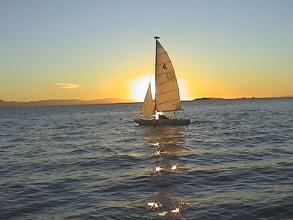fanchuan: (136, 37, 195, 126)
